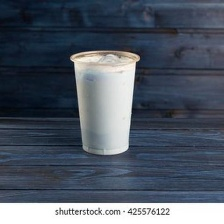glass: (68, 47, 142, 157)
